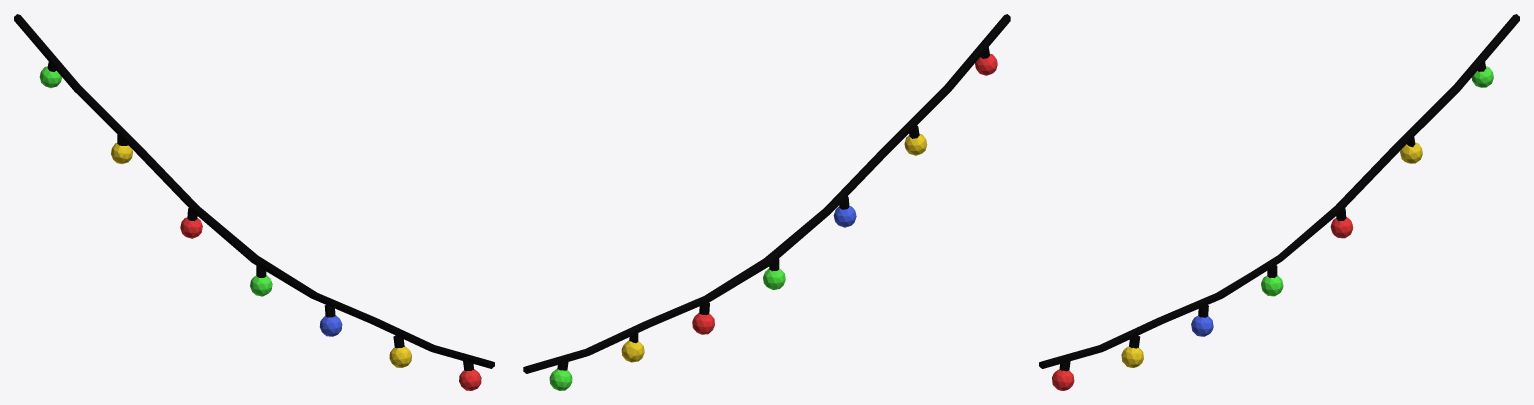
The model's file is lampeczki kolor.fbx.
3 renders of one model, left to right at view 1: azimuth 30°, elevation 25°; view 2: azimuth 150°, elevation 25°; view 3: azimuth 330°, elevation 25°, orthographic.
Parts seen in each view (by area): view 1: lampeczki kolorowe; view 2: lampeczki kolorowe; view 3: lampeczki kolorowe.
Part boxes in pixels (box(x1,y1,x2,y2)): lampeczki kolorowe: box(14, 14, 494, 390); lampeczki kolorowe: box(523, 14, 1010, 390); lampeczki kolorowe: box(1039, 14, 1519, 390).
Size of the model in its own units: 38.5 by 198 by 1657.
